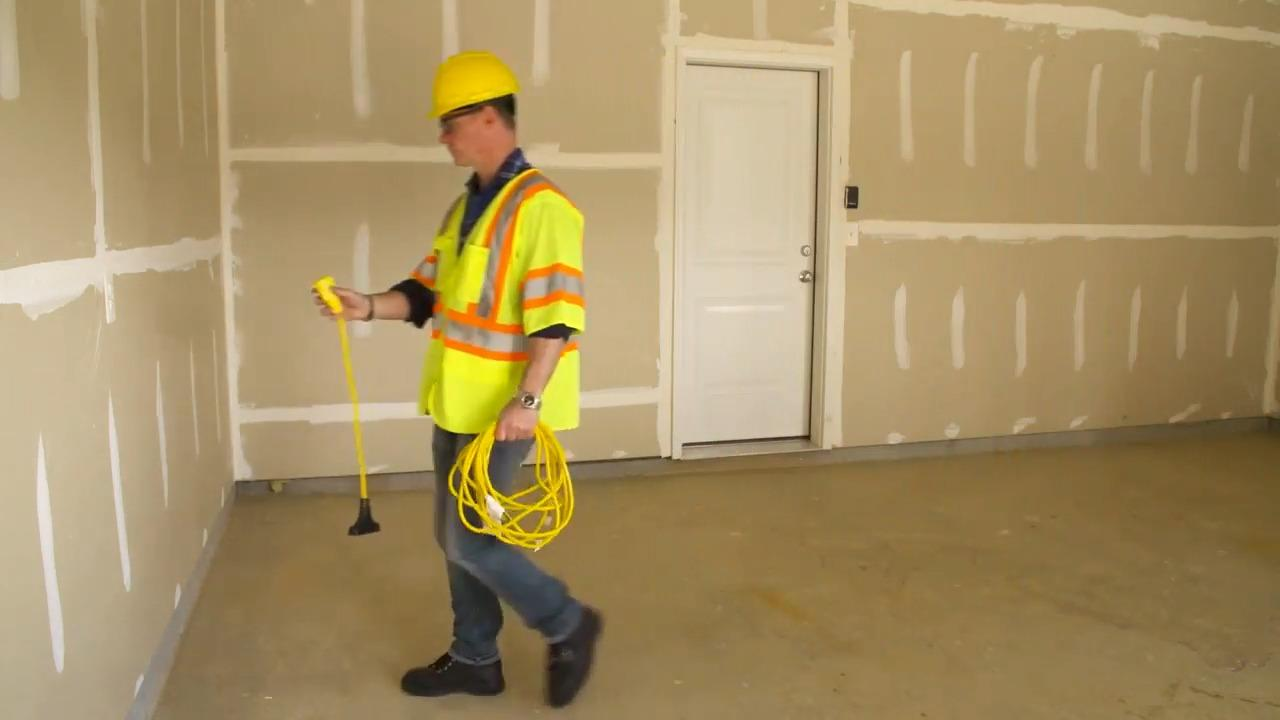Helmet: (416, 47, 523, 130)
Person: (313, 41, 620, 701)
Safety Boot: (543, 602, 603, 707), (400, 650, 505, 697)
Safety Vest: (404, 165, 586, 436)
bare-arms: (497, 384, 557, 453), (319, 278, 369, 326)
